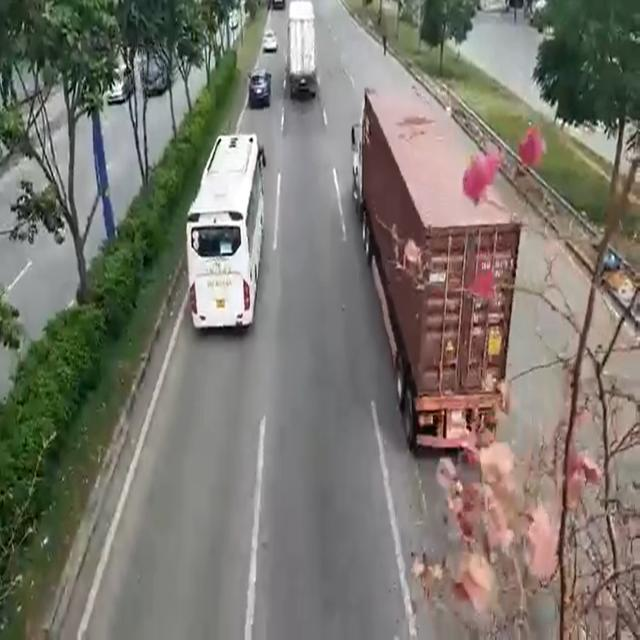bus: (189, 133, 257, 331)
car: (249, 70, 272, 106)
truck: (353, 85, 514, 462), (284, 1, 316, 100)
